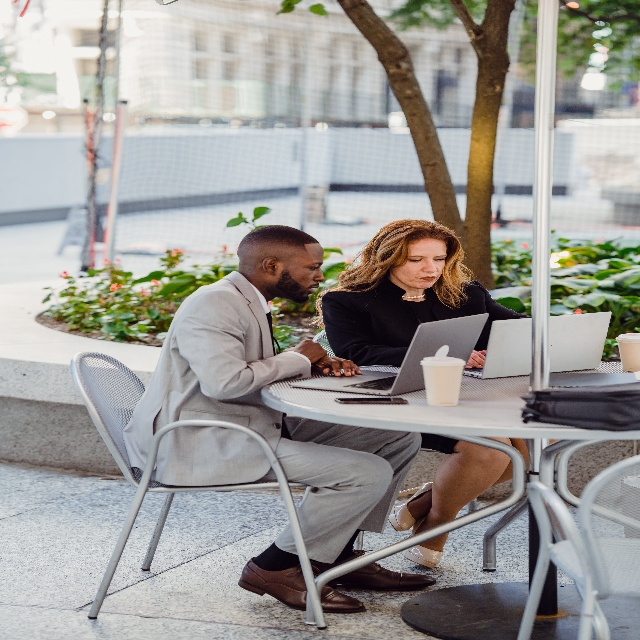Sin_guantes: (283, 338, 328, 366), (314, 355, 360, 377), (465, 348, 487, 370)
